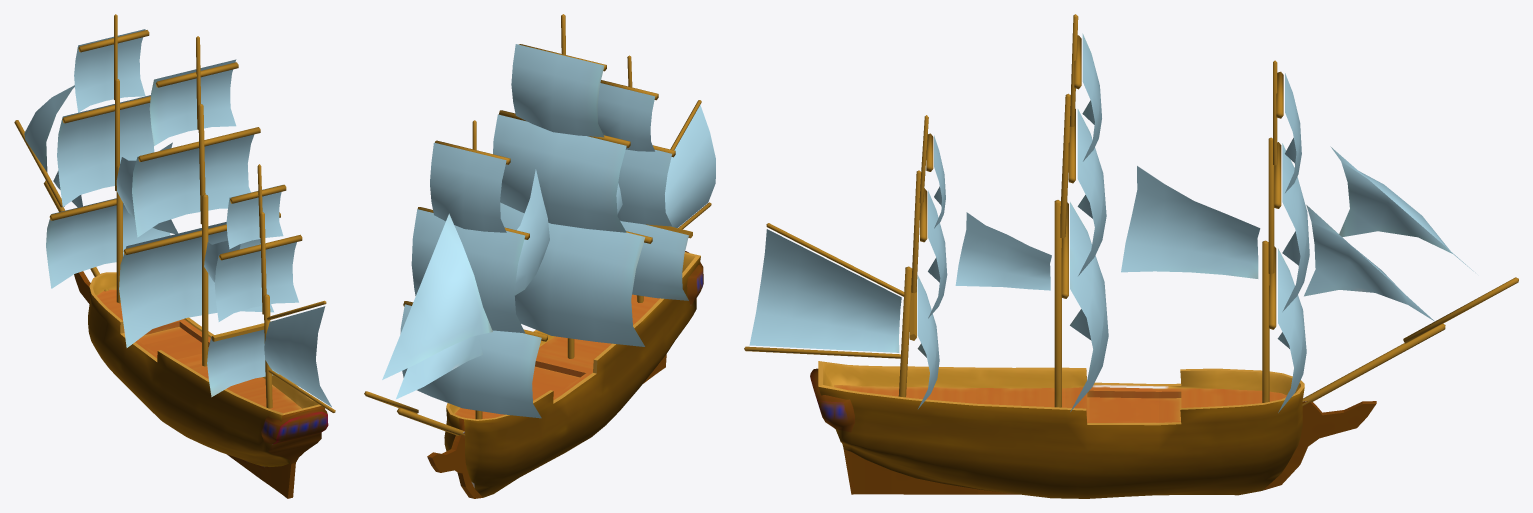
Rendered from ship_finished.glb.
3 renders of one model, left to right at view 1: azimuth 30°, elevation 25°; view 2: azimuth 150°, elevation 25°; view 3: azimuth 270°, elevation 25°, orthographic. The views are drawn at different scales.
Visible parts, largest first — view 1: Cube; view 2: Cube; view 3: Cube.
Boxes of the visible parts, bbox=[...] form: Cube: bbox=[14, 14, 335, 498]; Cube: bbox=[364, 14, 715, 498]; Cube: bbox=[744, 14, 1518, 498].
Bounding box in the file's own units: 1.72 × 4.2 × 6.15.
1 material, 1 textured.
